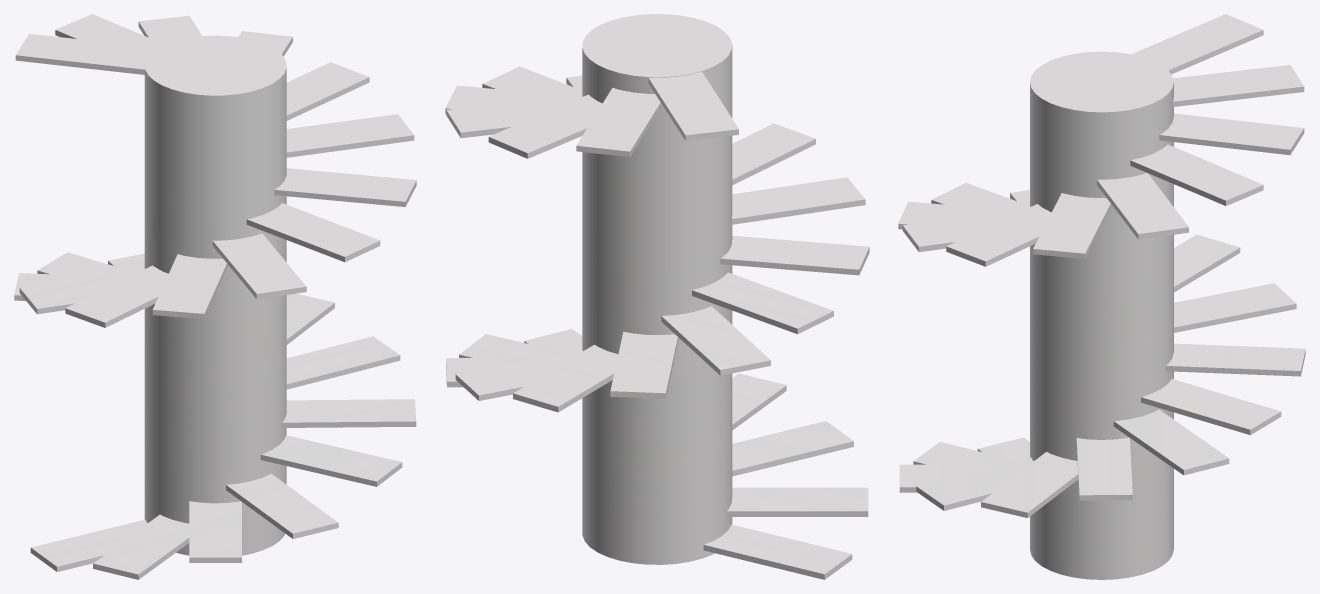
The model's file is escada.fbx.
The picture shows the model from 3 angles, left to right: view 1: azimuth 30°, elevation 25°; view 2: azimuth 150°, elevation 25°; view 3: azimuth 270°, elevation 25°; orthographic projection. The views are drawn at different scales.
Visible parts, largest first — view 1: Cylinder; view 2: Cylinder; view 3: Cylinder.
Boxes of the visible parts, x1,y1,x2,y2 form: Cylinder: [14, 14, 416, 579]; Cylinder: [445, 14, 869, 579]; Cylinder: [898, 14, 1305, 579].
Bounding box in the file's own units: 1522 × 1937 × 1530.
Materials: 1 (1 with a texture image).
